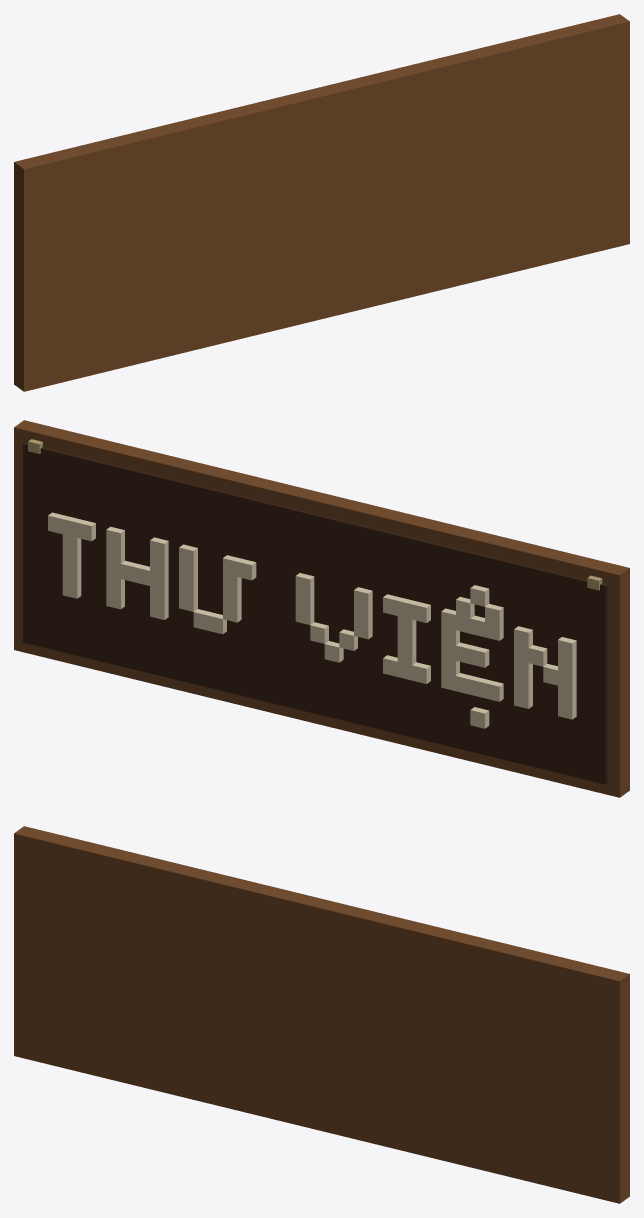
The model's file is tt-sign-thu-vien.glb.
The picture shows the model from 3 angles, top to bottom: view 1: azimuth 30°, elevation 25°; view 2: azimuth 150°, elevation 25°; view 3: azimuth 330°, elevation 25°; orthographic projection.
Visible parts, largest first — view 1: box-prop; view 2: box-prop; view 3: box-prop.
Boxes of the visible parts, x1,y1,x2,y2 form: box-prop: (14,14,629,391); box-prop: (14,420,629,797); box-prop: (14,826,629,1203).
Size of the model in its own units: 4.16 by 1.46 by 0.2.
